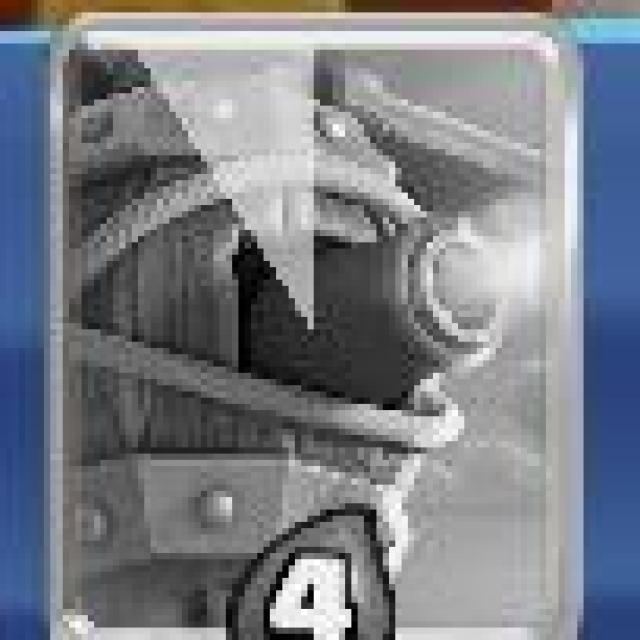Flying_Machine: (50, 13, 582, 640)
